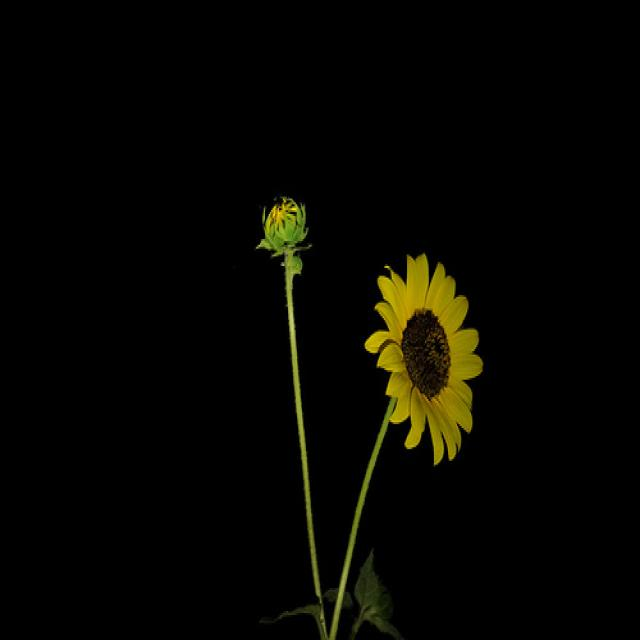sunflower: (357, 253, 491, 466)
